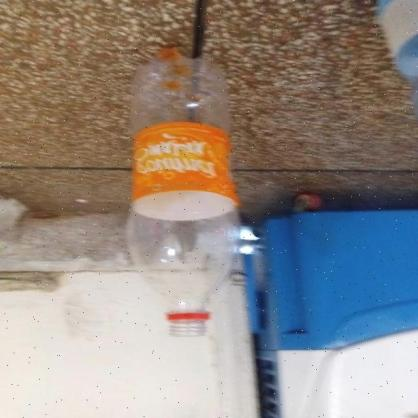bottle: (118, 41, 249, 346)
label: (126, 116, 235, 209)
